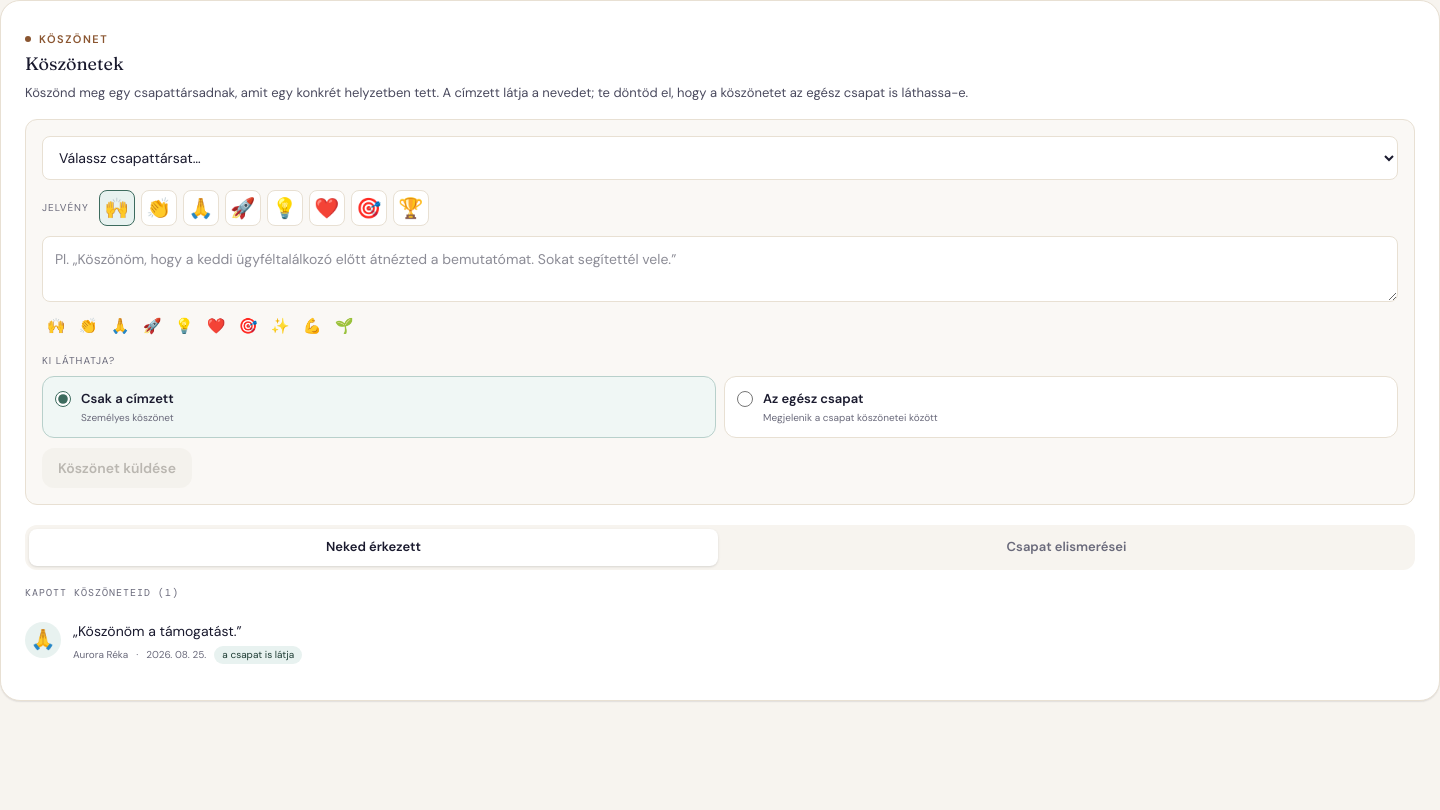
Test: TeamKudos › a küldő vagy címzett elrejtheti a kudost a csapatfolyamból
Click the button "Csapat elismerései". click: [1066, 547]
box: [722,529,1411,566]
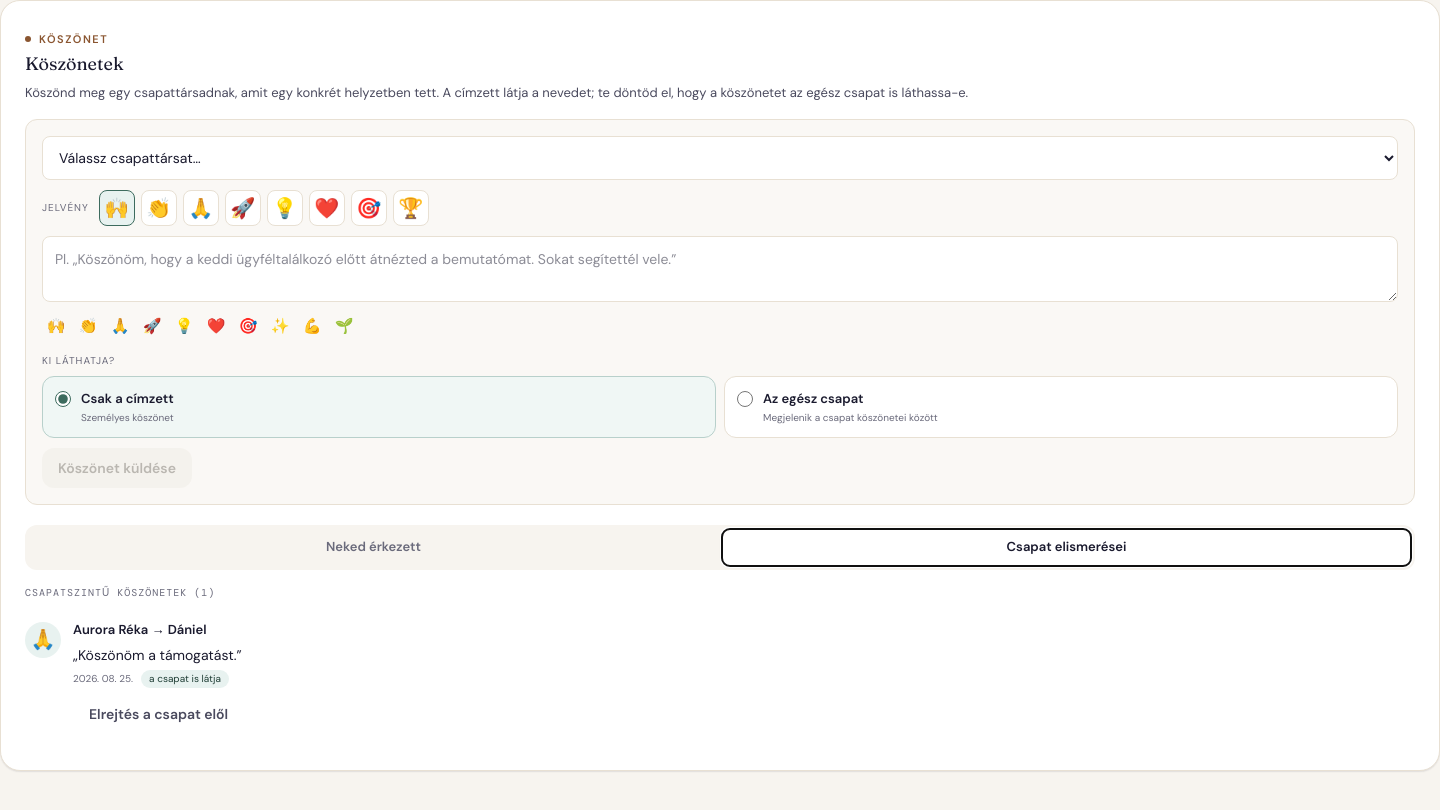
Click the button "Elrejtés a csapat elől". click: [159, 714]
box: [73,694,244,734]
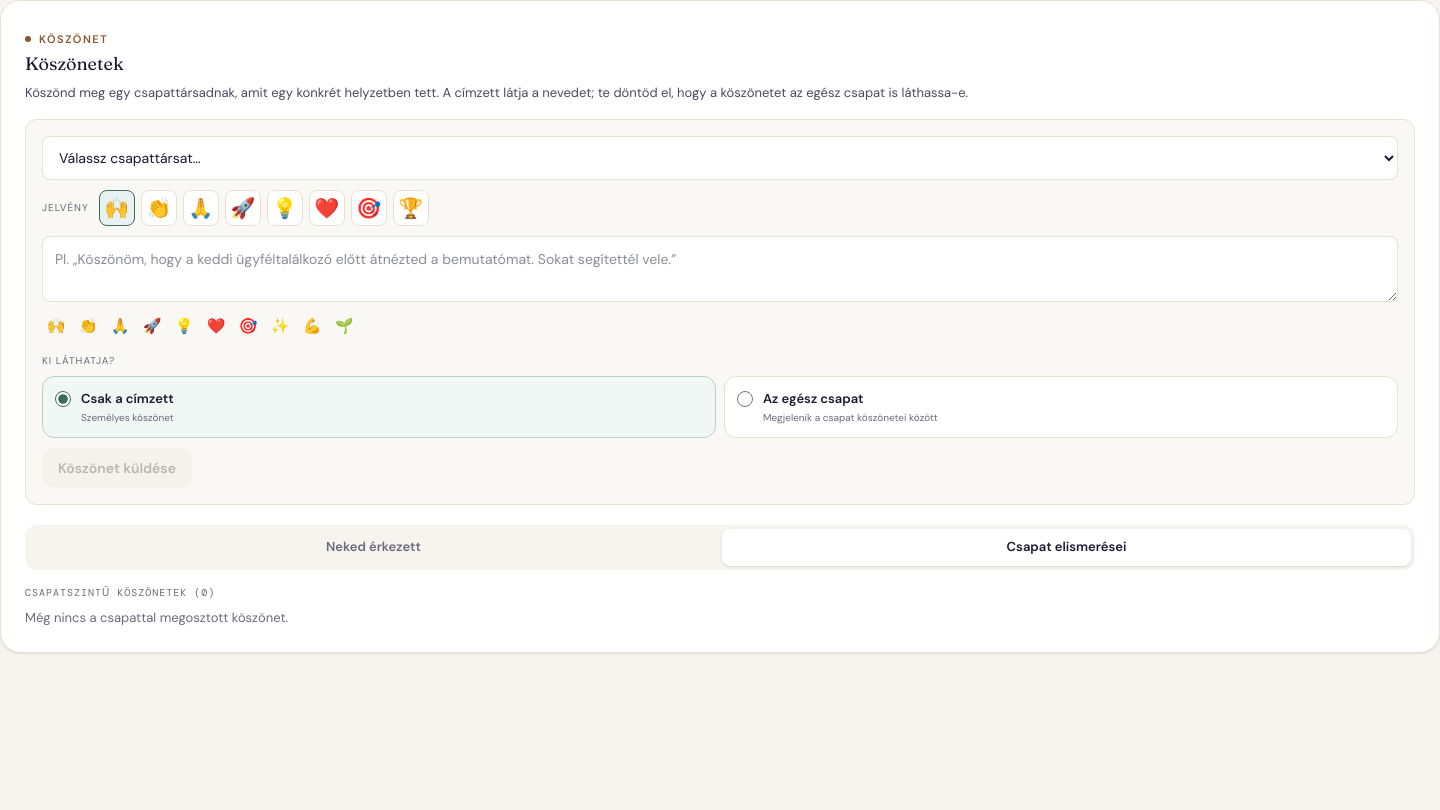
Check: the text "Még nincs a csapattal megosztott köszönet." is shown, box [25,609,288,626]
